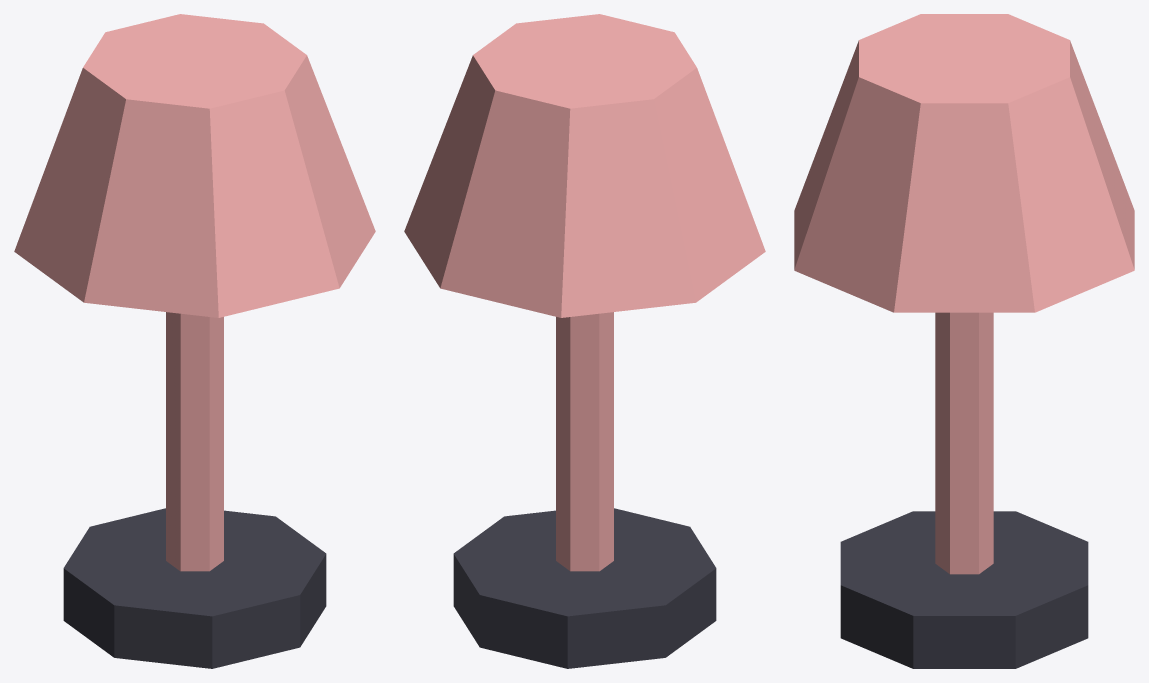
Rendered from lamp.obj.
3 views of the same model, side by side, from view 1: azimuth 30°, elevation 25°; view 2: azimuth 150°, elevation 25°; view 3: azimuth 270°, elevation 25° (orthographic).
Parts seen in each view (by area): view 1: faceted-lamp-shade, soft-lamp-base, warm-lamp-neck; view 2: faceted-lamp-shade, soft-lamp-base, warm-lamp-neck; view 3: faceted-lamp-shade, soft-lamp-base, warm-lamp-neck.
Part boxes in pixels (bbox=[...]): faceted-lamp-shade: bbox=[14, 14, 375, 317]; soft-lamp-base: bbox=[63, 508, 326, 668]; warm-lamp-neck: bbox=[166, 312, 223, 571]; faceted-lamp-shade: bbox=[404, 14, 765, 317]; soft-lamp-base: bbox=[453, 508, 716, 668]; warm-lamp-neck: bbox=[556, 312, 613, 571]; faceted-lamp-shade: bbox=[794, 14, 1134, 312]; soft-lamp-base: bbox=[840, 511, 1088, 668]; warm-lamp-neck: bbox=[935, 312, 993, 574].
Bounding box in the file's own units: 0.4066 × 0.735 × 0.4066.
